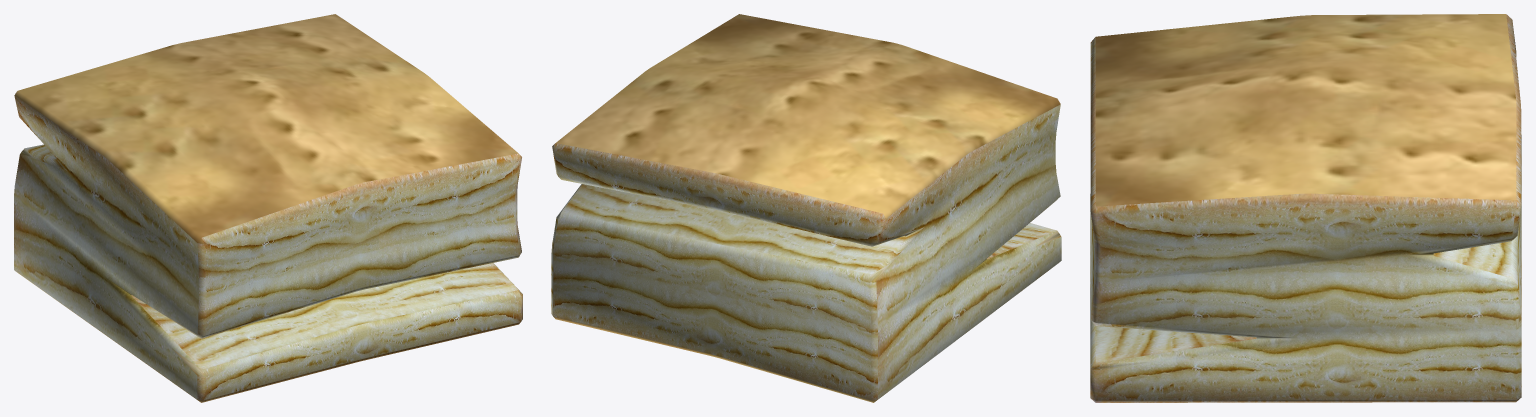
File: Bizcochito (1).fbx
The picture shows the model from 3 angles, left to right: view 1: azimuth 30°, elevation 25°; view 2: azimuth 150°, elevation 25°; view 3: azimuth 270°, elevation 25°; orthographic projection. The views are drawn at different scales.
Visible parts, largest first — view 1: BizcochitoEntero; view 2: BizcochitoEntero; view 3: BizcochitoEntero.
Boxes of the visible parts, x1,y1,x2,y2 form: BizcochitoEntero: (14,14,522,402); BizcochitoEntero: (551,14,1061,402); BizcochitoEntero: (1090,14,1521,402).
Bounding box in the file's own units: 182 × 111 × 180.
